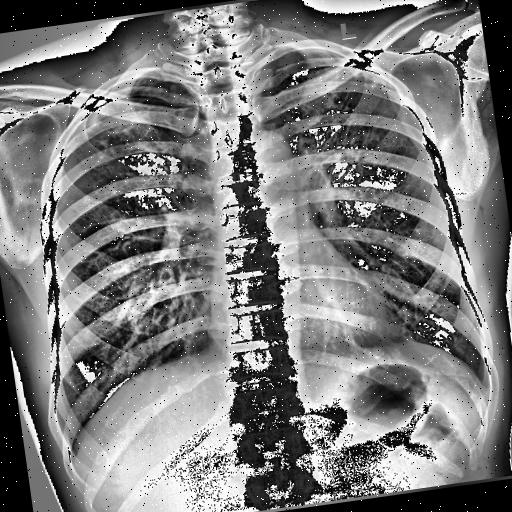11- Pleural thickening: (50, 96, 112, 156), (331, 43, 395, 96), (66, 92, 116, 139), (332, 44, 380, 86), (350, 58, 394, 91)
13- Pulmonary fibrosis: (95, 102, 187, 193), (92, 98, 172, 170), (83, 100, 166, 168), (309, 64, 363, 120), (324, 74, 363, 114)
